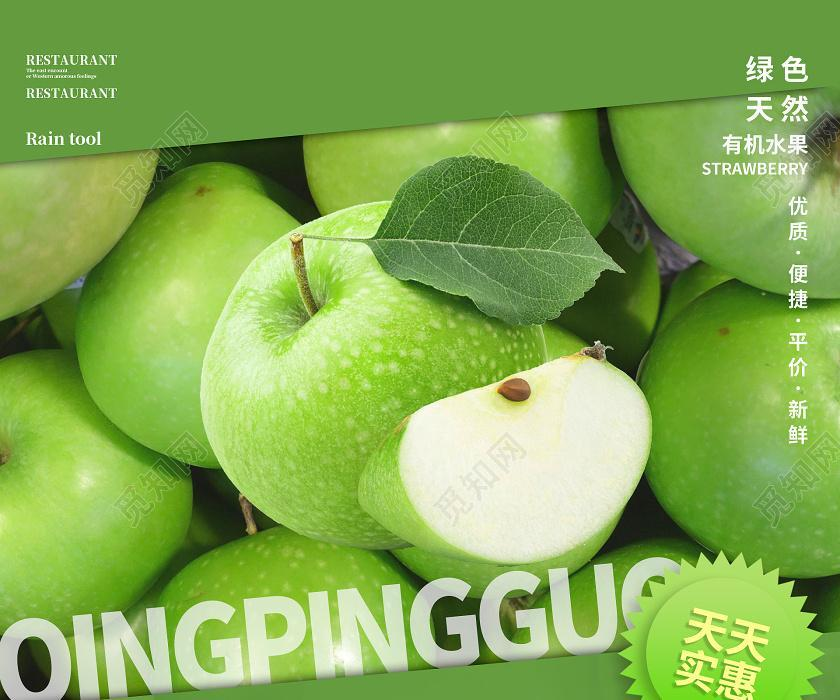apple: (199, 199, 551, 549)
